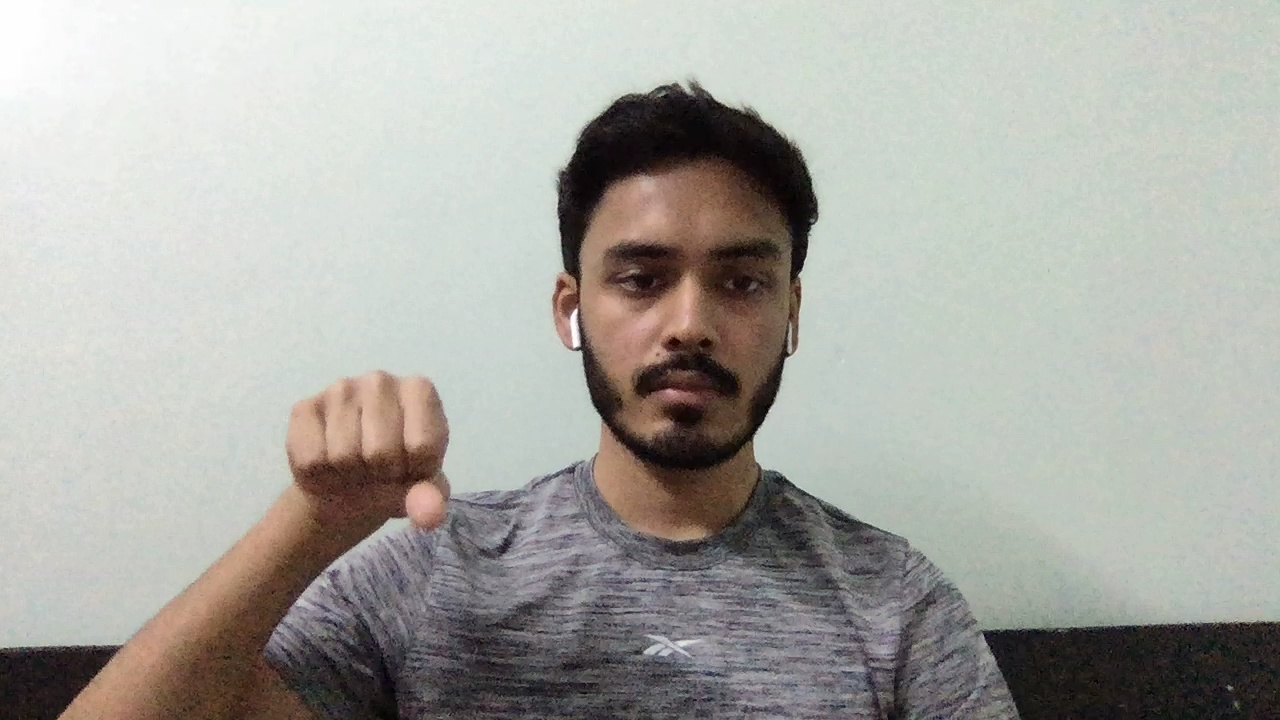Yes: (269, 358, 478, 567)
